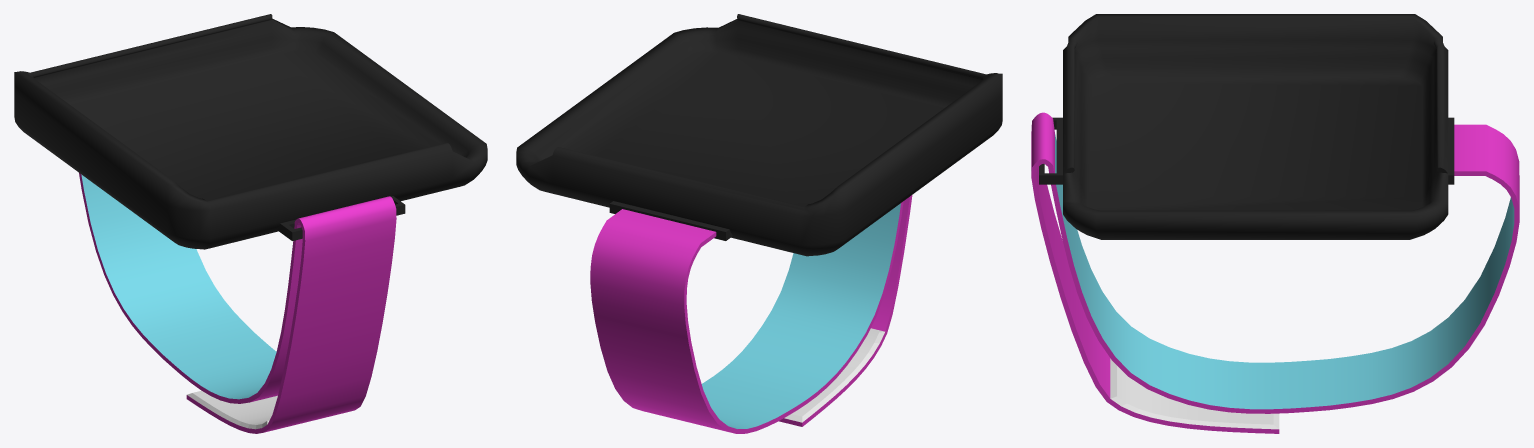
File: handtracker.glb
The picture shows the model from 3 angles, left to right: view 1: azimuth 30°, elevation 25°; view 2: azimuth 150°, elevation 25°; view 3: azimuth 270°, elevation 25°; orthographic projection. The views are drawn at different scales.
Visible parts, largest first — view 1: Box001, Line001, Object; view 2: Box001, Line001, Object; view 3: Box001, Line001, Object.
Boxes of the visible parts, x1,y1,x2,y2 form: Box001: (14,14,487,249); Line001: (79,173,396,433); Object: (187,390,277,429); Box001: (516,14,1002,256); Line001: (590,195,912,433); Object: (784,328,884,422); Box001: (1039,14,1454,239); Line001: (1031,112,1519,433); Object: (1110,358,1279,429).
Bounding box in the file's own units: 5.52 × 5.04 × 6.99.
